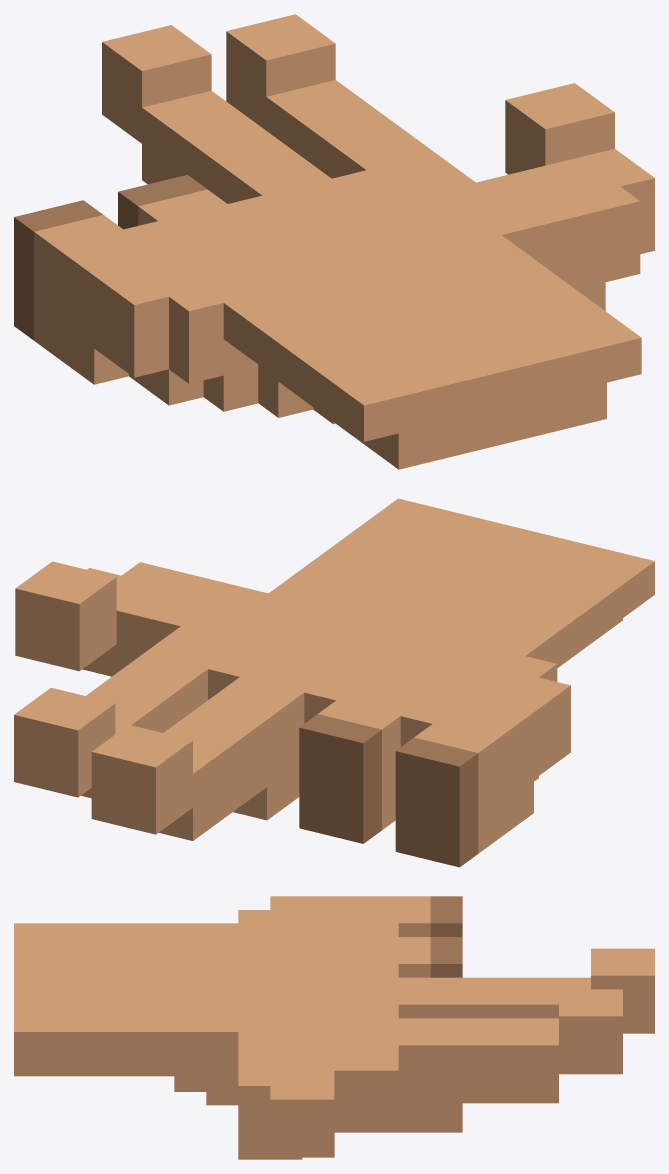
The model's file is PlayerHand.obj.
The picture shows the model from 3 angles, top to bottom: view 1: azimuth 30°, elevation 25°; view 2: azimuth 150°, elevation 25°; view 3: azimuth 270°, elevation 25°; orthographic projection. The views are drawn at different scales.
Bounding box in the file's own units: 1.5 × 0.4 × 2.
